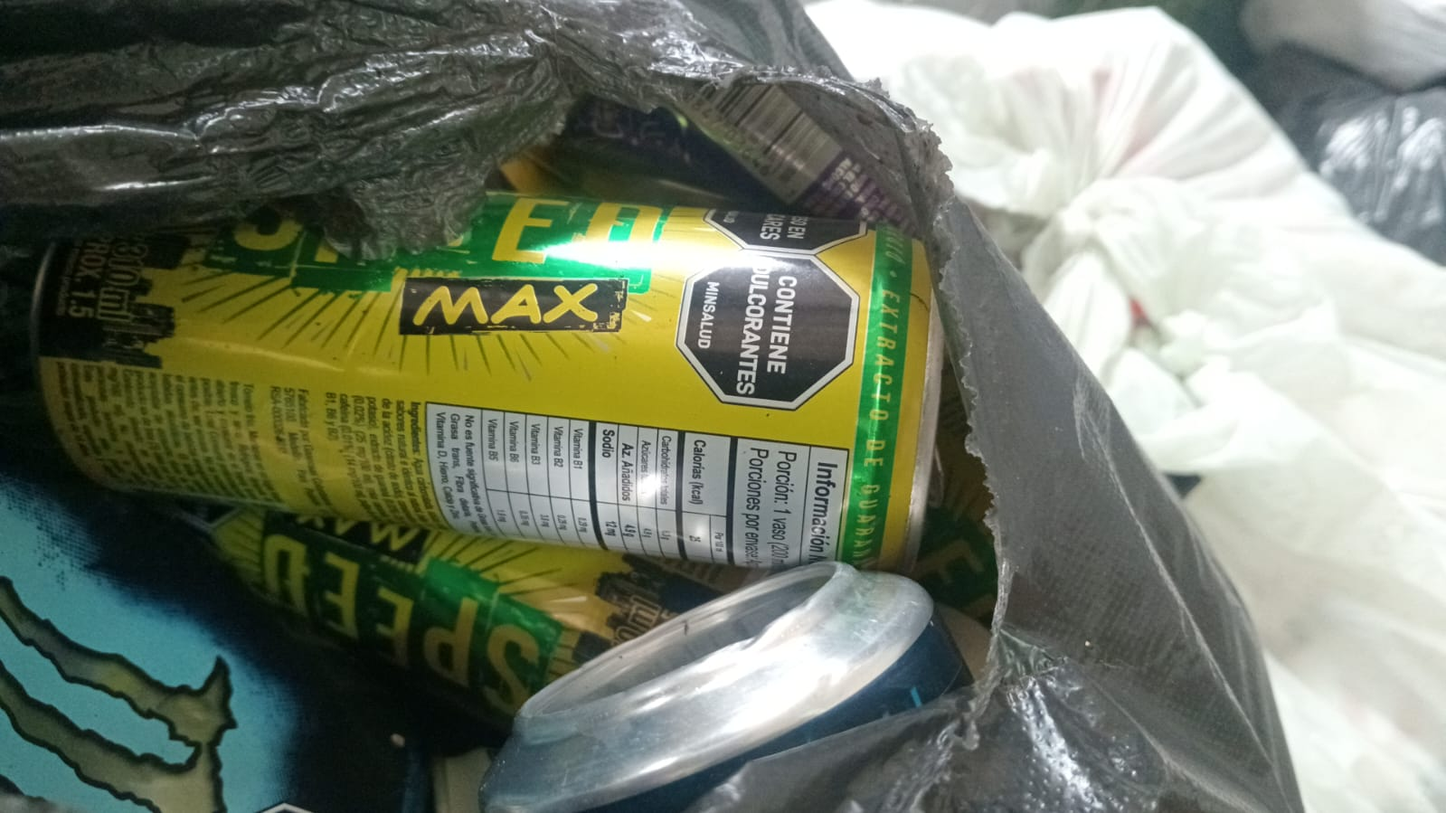Metal: (26, 197, 941, 567), (491, 567, 963, 809)
